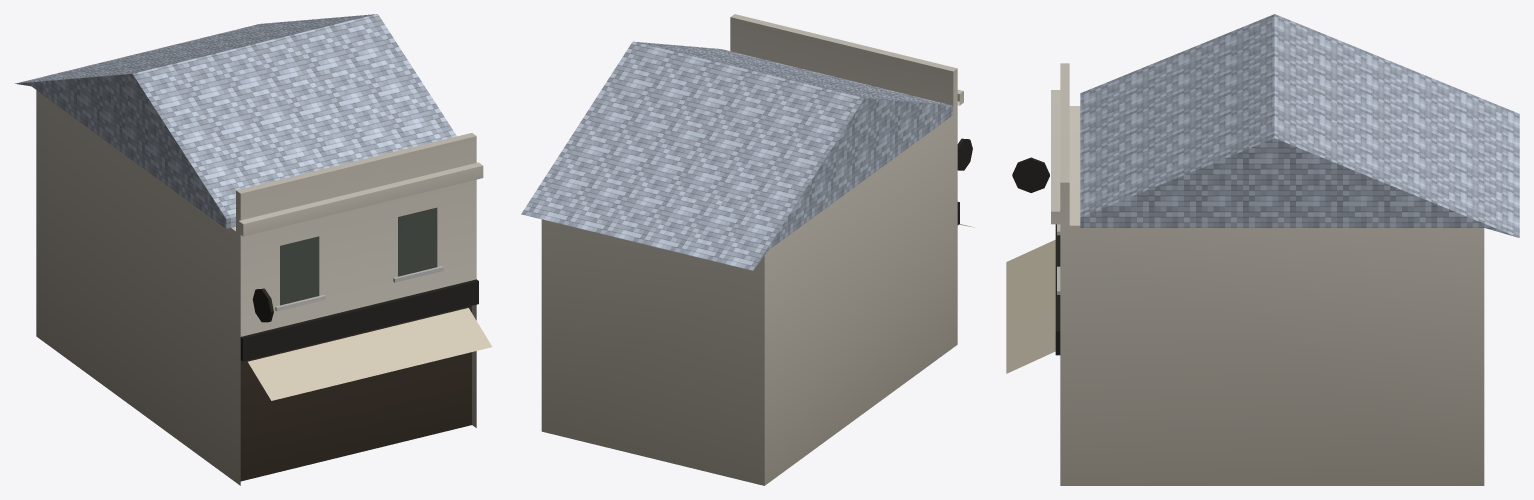
The model's file is exterior-lod2.glb.
3 views of the same model, side by side, from view 1: azimuth 30°, elevation 25°; view 2: azimuth 150°, elevation 25°; view 3: azimuth 270°, elevation 25° (orthographic). The views are drawn at different scales.
Parts seen in each view (by area): view 1: BldgA_LOD2_Exterior; view 2: BldgA_LOD2_Exterior; view 3: BldgA_LOD2_Exterior.
Boxes of the visible parts, x1,y1,x2,y2 form: BldgA_LOD2_Exterior: [15, 14, 492, 485]; BldgA_LOD2_Exterior: [521, 14, 974, 485]; BldgA_LOD2_Exterior: [1006, 14, 1519, 485].
Size of the model in its own units: 6.24 by 8.2 by 10.9.
7 materials, 1 textured.
